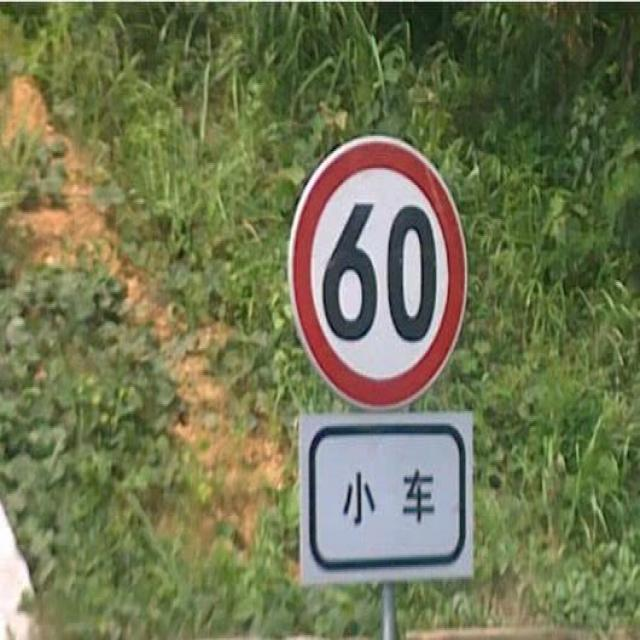speed limit 60: (290, 137, 469, 411)
